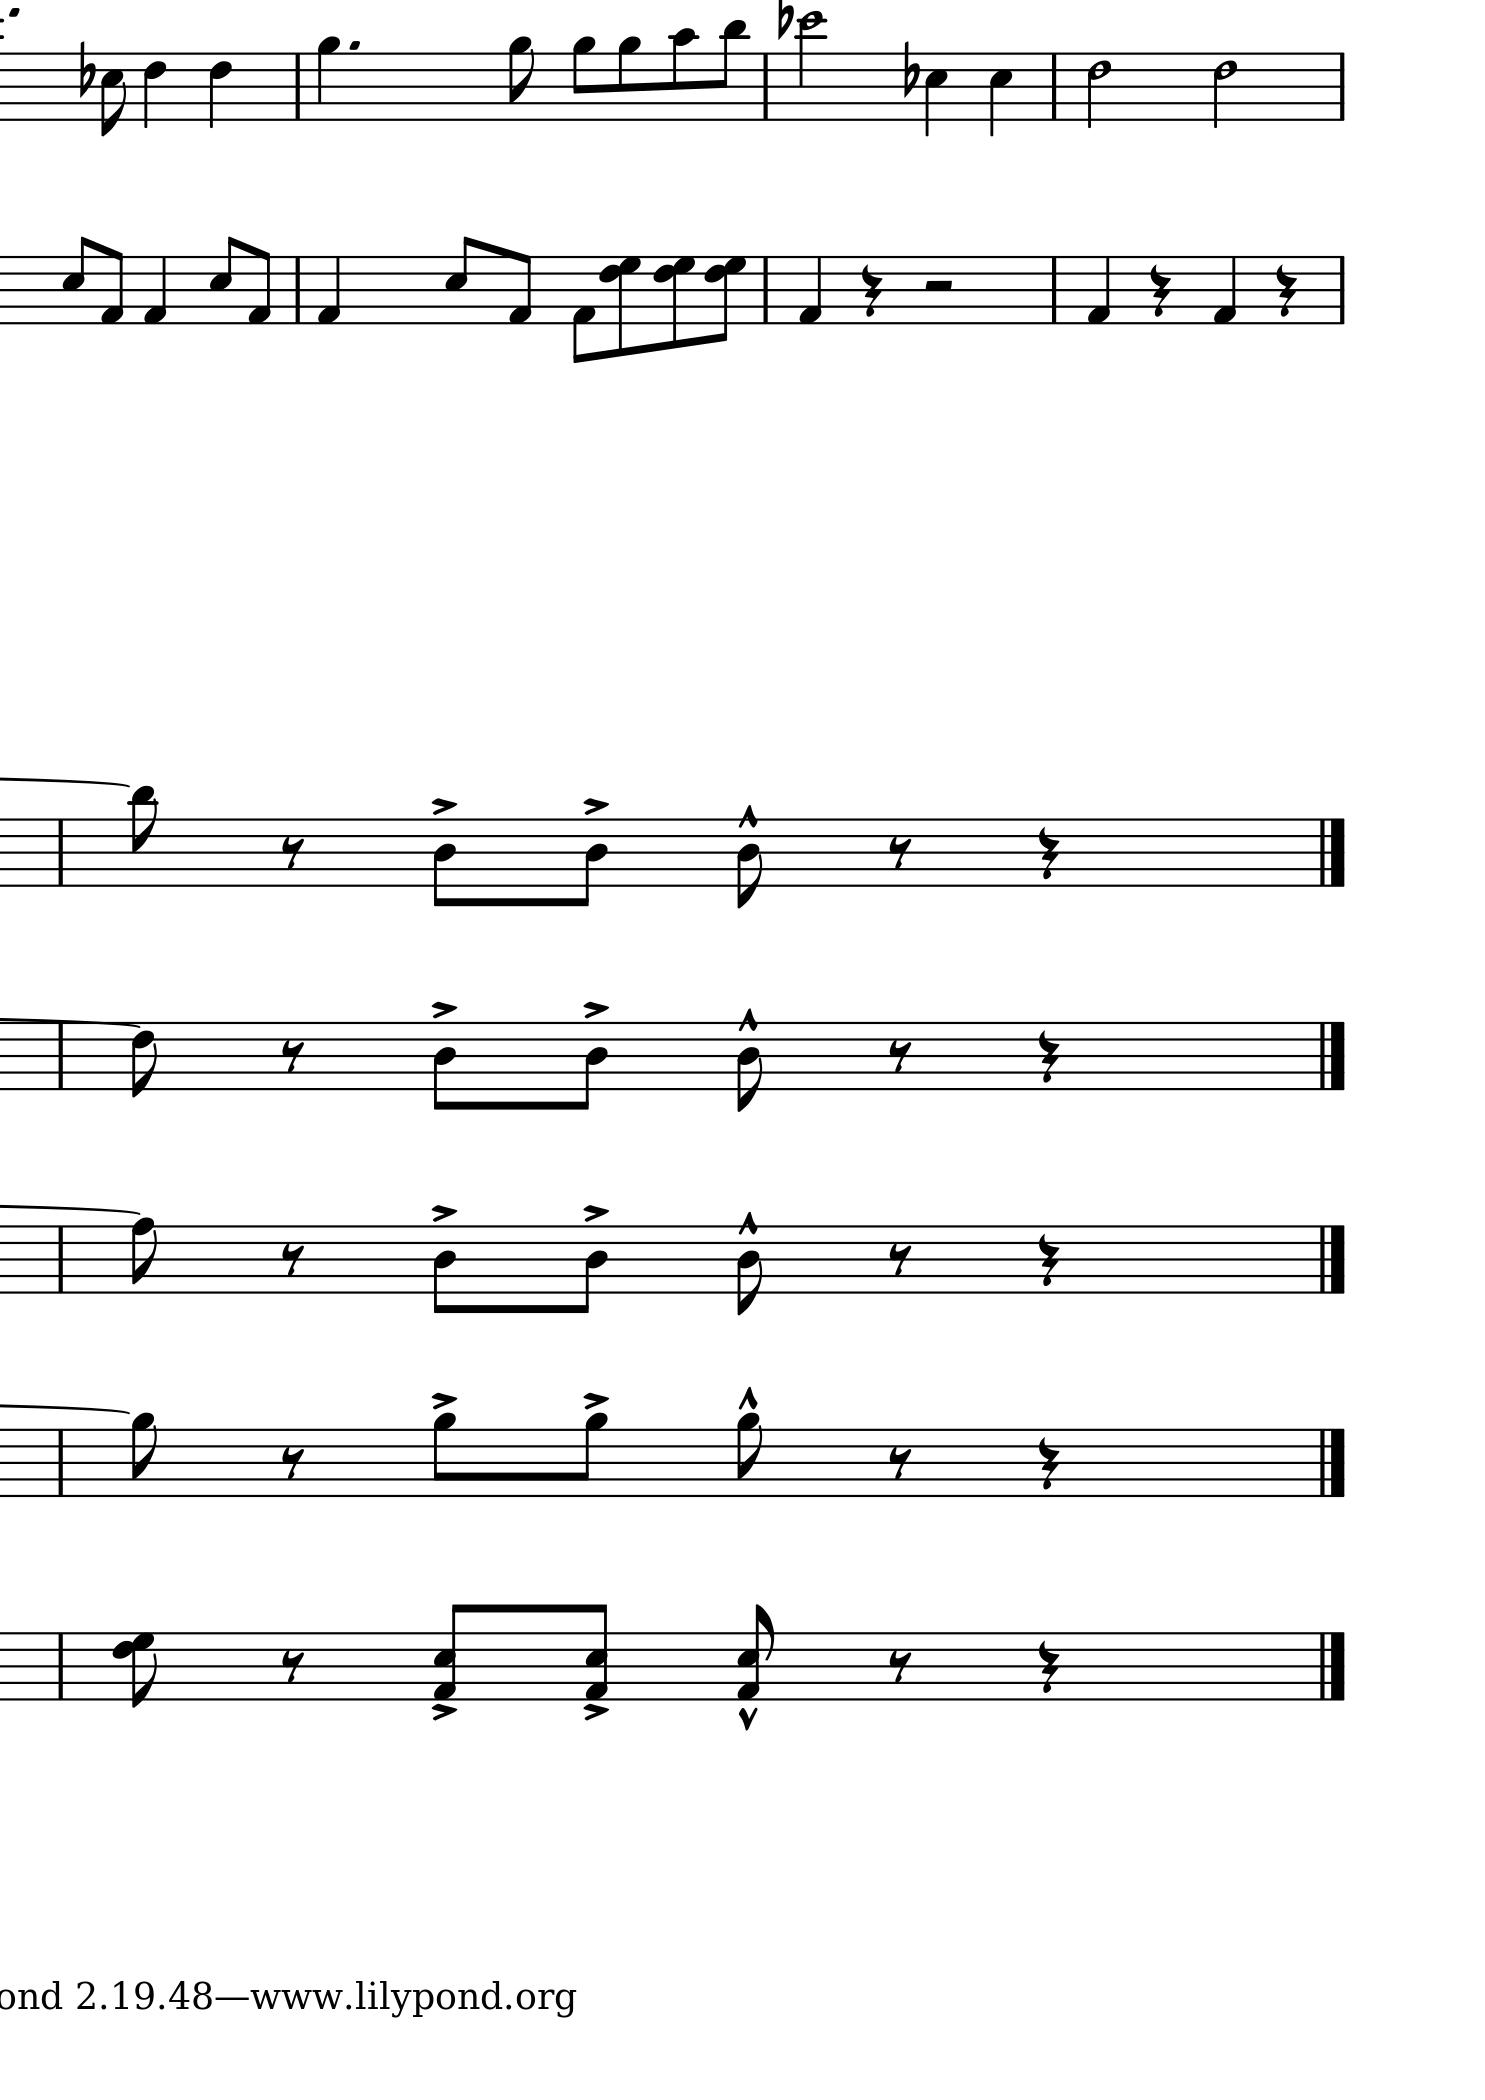2_12: (796, 10, 823, 125)
2_6: (1210, 51, 1237, 132), (1083, 51, 1111, 130)
4_1: (1209, 254, 1237, 326), (796, 254, 823, 328), (1083, 254, 1111, 328), (313, 254, 341, 326), (141, 252, 167, 326)
4_5: (987, 51, 1012, 140), (922, 51, 947, 140)
4_6: (206, 51, 231, 130), (141, 51, 166, 129)
4_9: (315, 35, 341, 124)
8_1: (567, 252, 595, 365), (244, 246, 272, 328), (96, 247, 124, 328), (505, 251, 532, 326)
8_10: (669, 27, 697, 124)
8_11: (712, 19, 749, 124), (129, 786, 159, 890)
8_1_5: (734, 1604, 776, 1703), (432, 1602, 469, 1703), (583, 1604, 611, 1702)
8_4: (572, 1019, 609, 1112), (572, 816, 609, 908), (572, 1224, 609, 1314), (734, 816, 763, 911), (734, 1224, 763, 1318), (734, 1022, 763, 1113), (431, 816, 456, 909), (431, 1223, 456, 1316), (431, 1020, 456, 1110)
8_5: (442, 235, 474, 326), (206, 235, 236, 326), (59, 235, 88, 326), (98, 51, 124, 140)
8_6: (129, 1019, 157, 1101)
8_6_7: (599, 252, 643, 358), (652, 254, 696, 350), (704, 254, 747, 342)
8_7_8: (112, 1632, 161, 1708)
8_8: (129, 1215, 157, 1297)
8_9: (574, 1412, 609, 1499), (733, 1412, 765, 1501), (129, 1411, 157, 1501), (429, 1411, 458, 1499), (506, 35, 534, 124), (614, 35, 641, 124), (569, 35, 595, 122)
Accent_above: (427, 998, 458, 1020), (427, 1202, 458, 1224), (427, 1702, 460, 1722), (579, 1702, 611, 1722), (429, 795, 460, 816), (580, 795, 609, 816), (580, 998, 609, 1019), (429, 1390, 458, 1411), (582, 1202, 609, 1223), (582, 1391, 611, 1411)
Final_barline: (1311, 1020, 1348, 1089), (1313, 816, 1348, 887), (1311, 1224, 1347, 1295), (1311, 1631, 1347, 1702), (1311, 1428, 1347, 1497)
Flat: (900, 40, 919, 96), (76, 40, 93, 101), (775, 2, 792, 40)
Marcato_above: (734, 1007, 760, 1035), (734, 1211, 760, 1239), (734, 1705, 760, 1730), (734, 803, 759, 831), (734, 1385, 759, 1412)
Rests2: (919, 276, 956, 297)
Rests4: (1271, 264, 1299, 320), (1146, 264, 1172, 320), (858, 262, 882, 320), (1035, 1639, 1059, 1697), (1035, 1232, 1059, 1289), (1035, 824, 1057, 884), (1035, 1028, 1057, 1086), (1035, 1435, 1057, 1493)
Rests8: (278, 1240, 305, 1277), (884, 1444, 911, 1481), (278, 1444, 305, 1480), (278, 1649, 305, 1682), (886, 1242, 911, 1277), (886, 1649, 911, 1684), (278, 1040, 305, 1072), (280, 836, 305, 869), (886, 836, 911, 869), (886, 1040, 911, 1073)
Single_barline: (1331, 255, 1352, 325), (1331, 53, 1350, 121), (288, 257, 307, 325), (755, 55, 775, 121), (289, 55, 309, 119), (757, 257, 775, 325), (1045, 257, 1062, 325), (51, 1022, 69, 1089), (1045, 55, 1062, 121), (51, 819, 69, 885), (51, 1632, 69, 1698), (51, 1226, 67, 1293), (51, 1430, 67, 1496)
dot: (346, 39, 362, 53)
